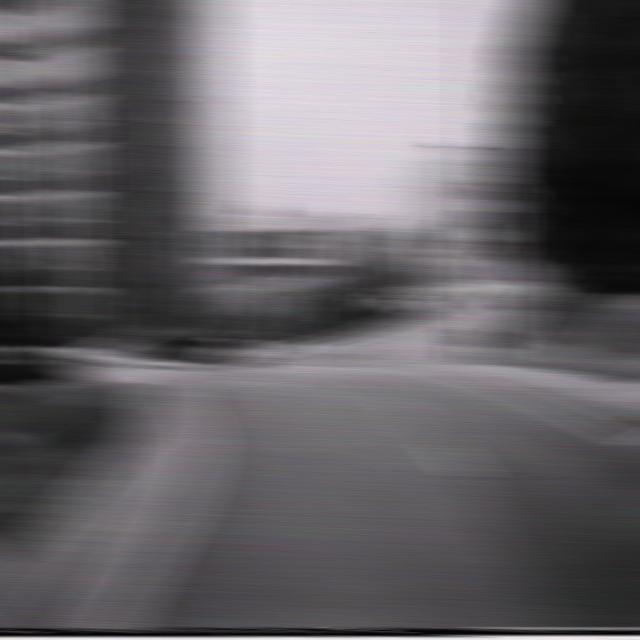stop_sign: (443, 289, 476, 314)
